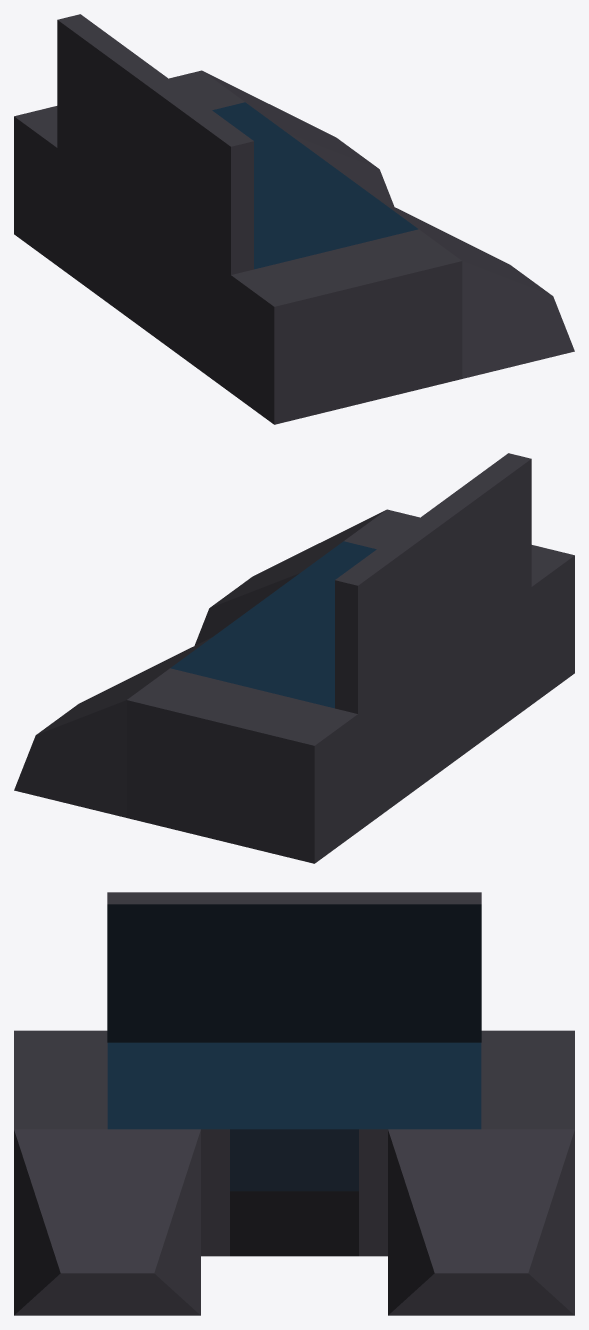
The model's file is main_console.glb.
The picture shows the model from 3 angles, top to bottom: view 1: azimuth 30°, elevation 25°; view 2: azimuth 150°, elevation 25°; view 3: azimuth 270°, elevation 25°; orthographic projection. The views are drawn at different scales.
Parts seen in each view (by area): view 1: operation_console-col; view 2: operation_console-col; view 3: operation_console-col.
Boxes of the visible parts, box(x1,y1,x2,y2) form: operation_console-col: box(14, 14, 574, 424); operation_console-col: box(14, 453, 574, 863); operation_console-col: box(14, 892, 574, 1315).
Size of the model in its own units: 2 by 1.57 by 3.
